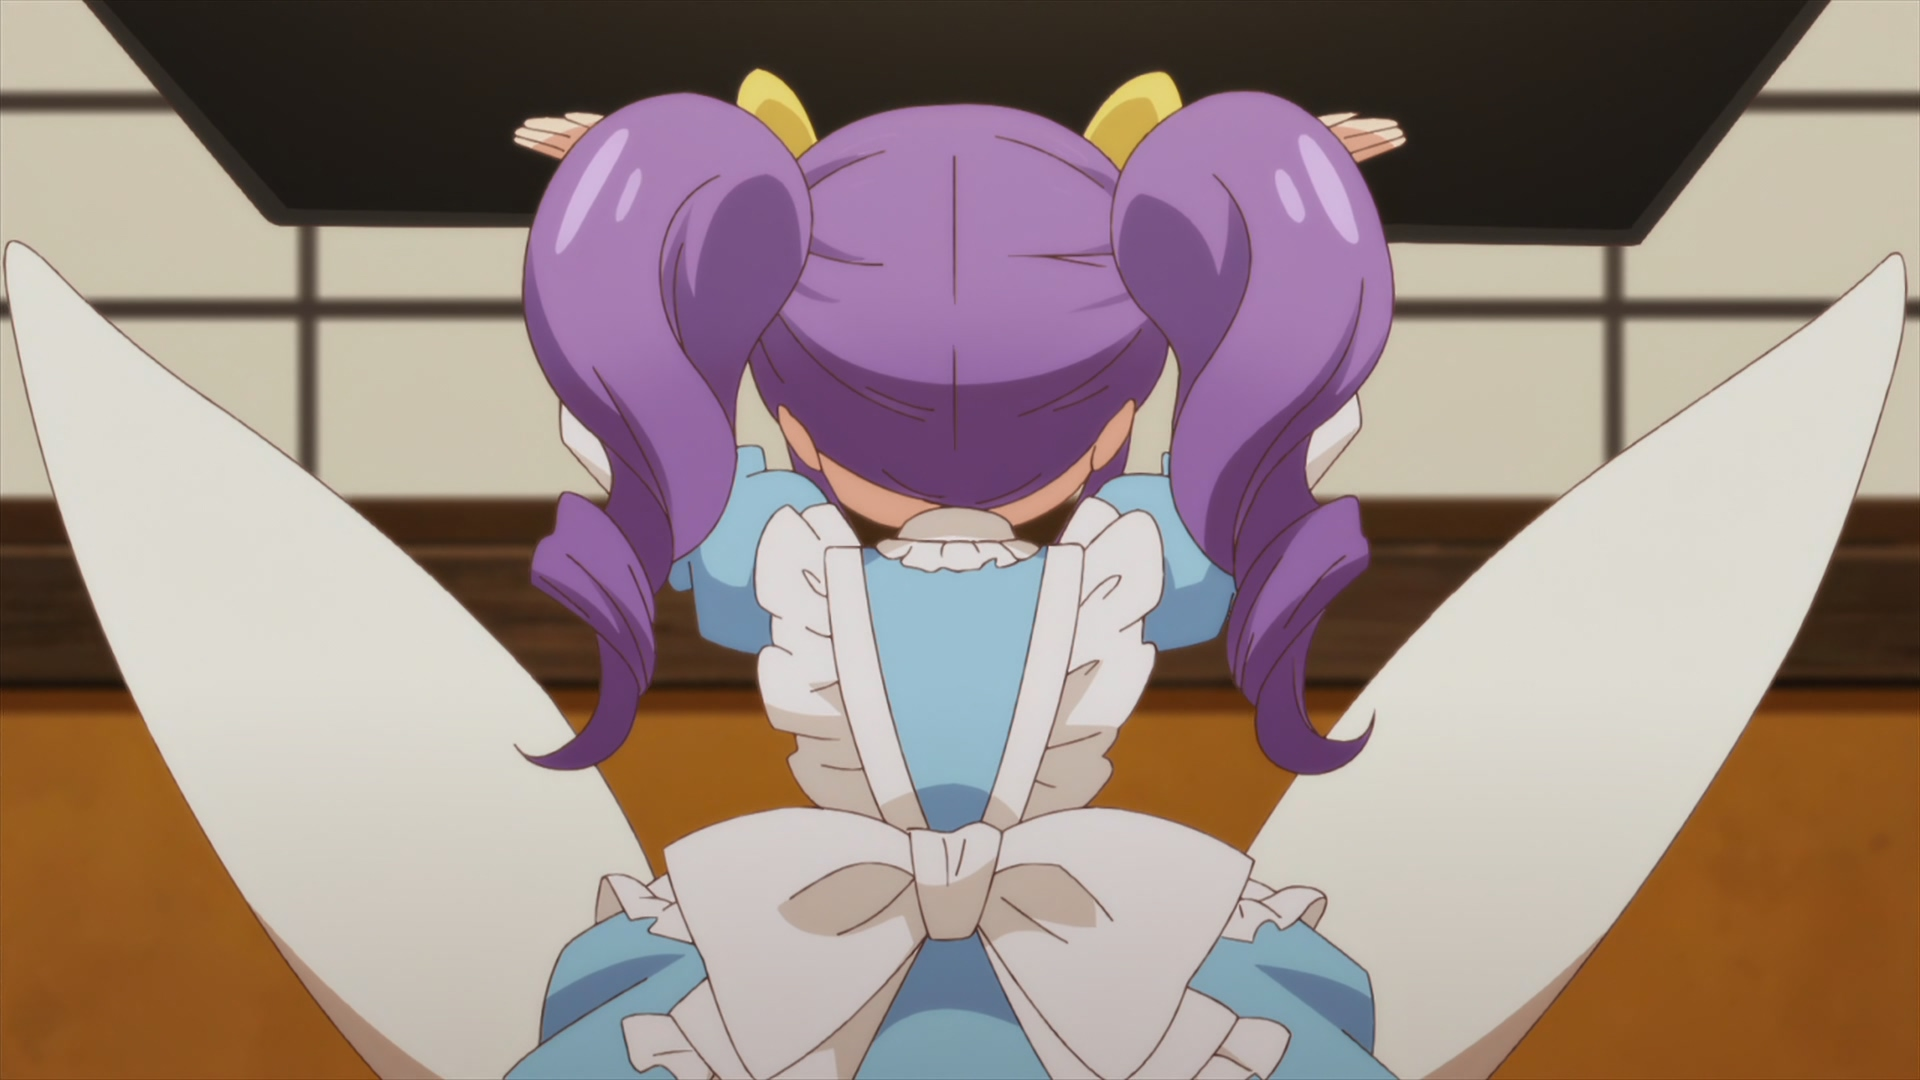瓜之介: (1, 236, 1905, 1080)
阿菊: (501, 71, 1404, 1080)
